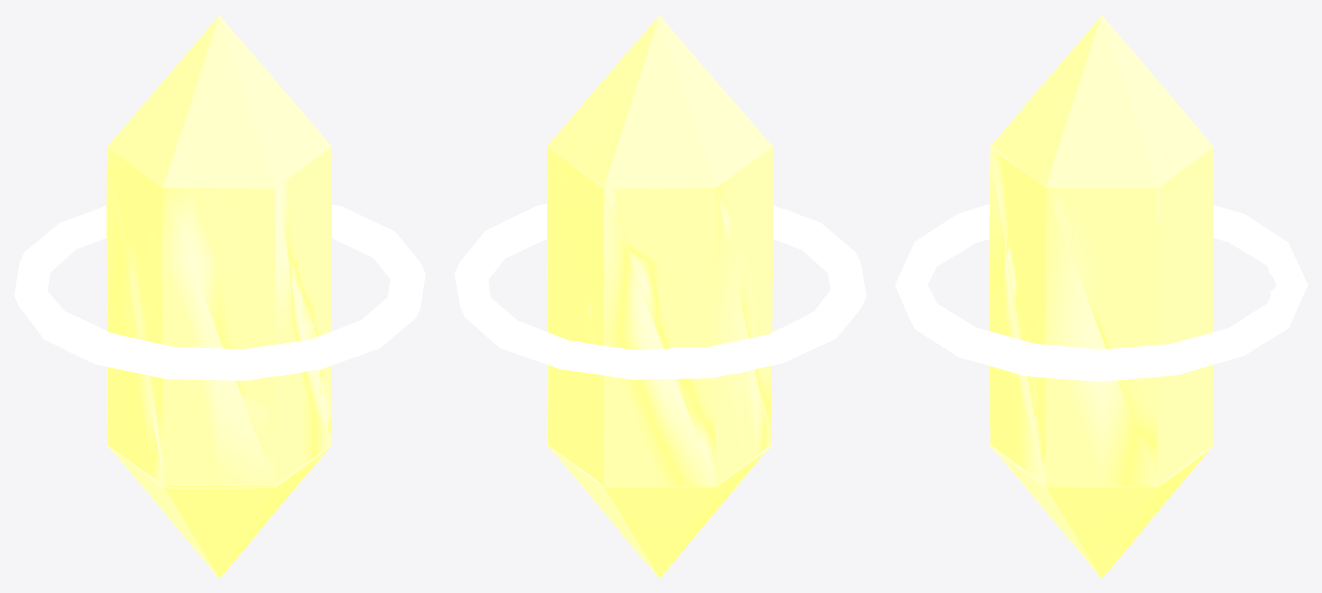
The model's file is crystal4.glb.
The picture shows the model from 3 angles, left to right: view 1: azimuth 30°, elevation 25°; view 2: azimuth 150°, elevation 25°; view 3: azimuth 270°, elevation 25°; orthographic projection.
Visible parts, largest first — view 1: PrismShaft; view 2: PrismShaft; view 3: PrismShaft.
Boxes of the visible parts, box(x1,y1,x2,y2) form: PrismShaft: box(14, 14, 425, 578); PrismShaft: box(454, 14, 866, 578); PrismShaft: box(895, 14, 1307, 578).
Size of the model in its own units: 1.7 by 2.55 by 1.69.
